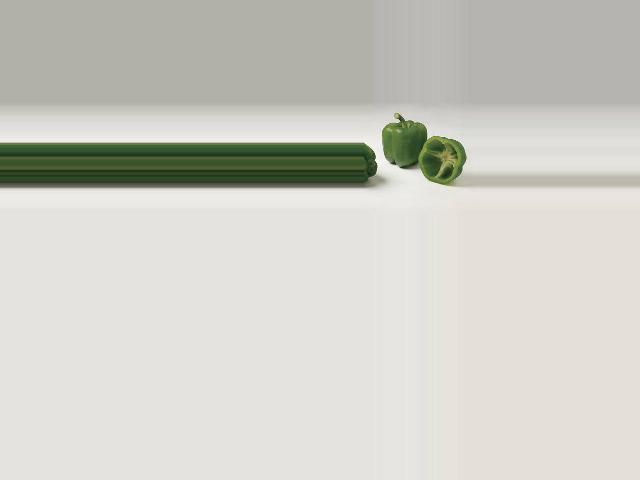bell_pepper: (415, 131, 468, 187)
